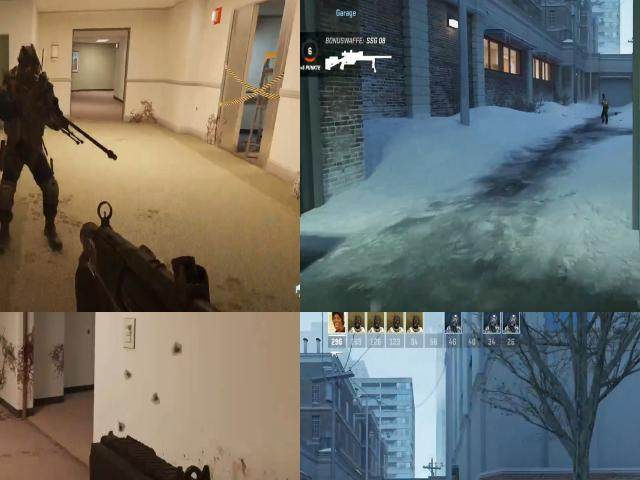CT: (0, 52, 52, 181)
CT-Head: (16, 37, 51, 95)
T: (600, 93, 610, 114)
T-Head: (600, 94, 608, 102)
